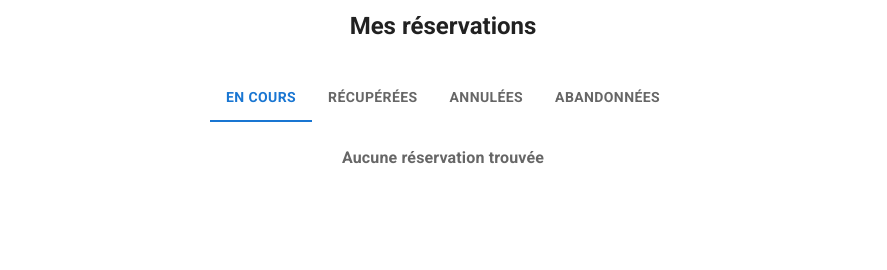
it: ReservationHistoryPage › displays a canceled reservation
Click the tab "Annulées".
click(486, 98)  # box x1=434 y1=74 x2=539 y2=122
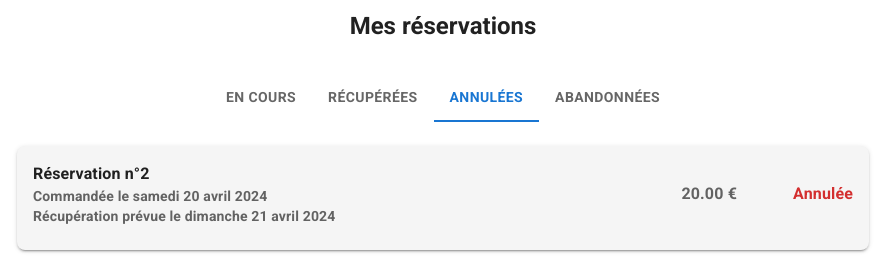
Result: the text "Annulée" is shown at x1=793 y1=184 x2=853 y2=203
